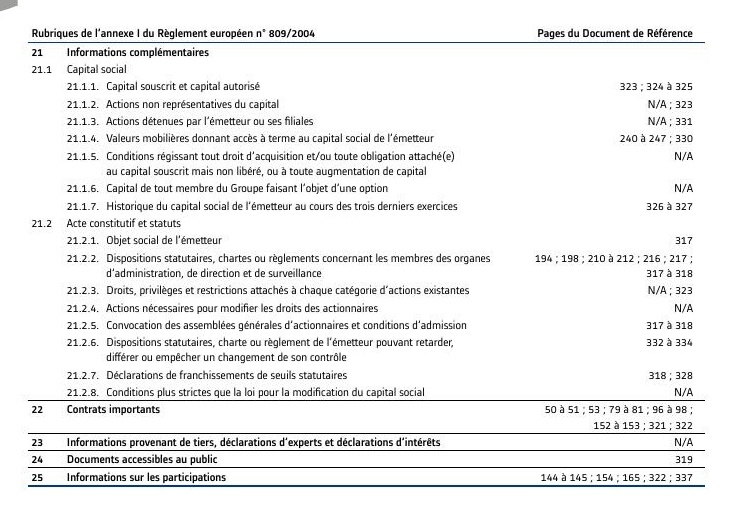table: (0, 0, 730, 506)
